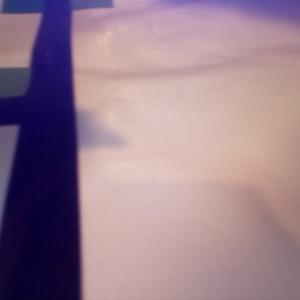bottom_left: (3, 1, 71, 14)
bottom_right: (44, 1, 112, 10)
top_left: (1, 68, 70, 123)
